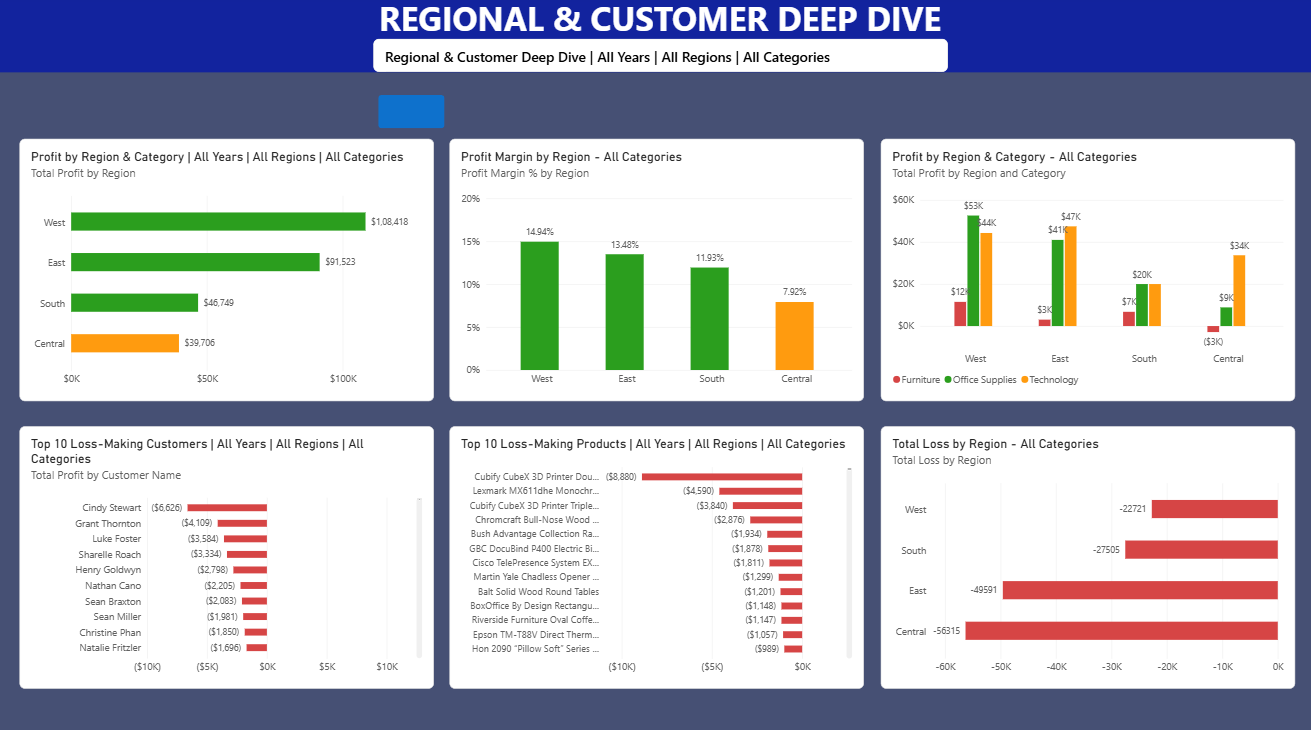

What the dashboard file says about the page in this screenshot:
{"tool":"powerbi","page":{"name":"Regional & Customer Deep Dive","canvas":[1920,1080],"ordinal":2},"visuals":[{"type":"textbox","box":[0,0,1920,112],"z":0},{"type":"clusteredBarChart","title":"Profit by Region","fields":{"Category":["superstore_cleaned.Region"],"Y":["superstore_cleaned.Total Profit"]},"box":[32,208,600,380],"z":1000},{"type":"clusteredColumnChart","title":"Profit Margin by Region","fields":{"Category":["superstore_cleaned.Region"],"Y":["superstore_cleaned.Profit Margin %"]},"box":[656,208,600,380],"z":2000},{"type":"clusteredColumnChart","title":"Profit by Region & Category","fields":{"Category":["superstore_cleaned.Region"],"Series":["superstore_cleaned.Category"],"Y":["superstore_cleaned.Total Profit"]},"box":[1280,208,600,380],"z":3000},{"type":"barChart","title":"Top 10 Loss-Making Customers","fields":{"Category":["superstore_cleaned.Customer Name"],"Y":["superstore_cleaned.Total Profit"]},"box":[32,624,600,380],"z":4000},{"type":"clusteredBarChart","title":"Total Loss by Region","fields":{"Category":["superstore_cleaned.Region"],"Y":["superstore_cleaned.Total Loss"]},"box":[1280,624,600,380],"z":5000},{"type":"clusteredBarChart","title":"Top 10 Loss-Making Transactions","fields":{"Category":["superstore_cleaned.Row ID"],"Y":["superstore_cleaned.Total Profit"]},"box":[656,624,600,380],"z":6000}]}

Visuals, with their boxes in screenshot pixels (x1, y1, x2, y2), scaled from the page's 1920x1080 canvas onto the 1311x730 screenshot:
textbox: [0,0,1310,76]
"Profit by Region" clusteredBarChart: [22,141,432,397]
"Profit Margin by Region" clusteredColumnChart: [448,141,858,397]
"Profit by Region & Category" clusteredColumnChart: [874,141,1284,397]
"Top 10 Loss-Making Customers" barChart: [22,422,432,679]
"Total Loss by Region" clusteredBarChart: [874,422,1284,679]
"Top 10 Loss-Making Transactions" clusteredBarChart: [448,422,858,679]
